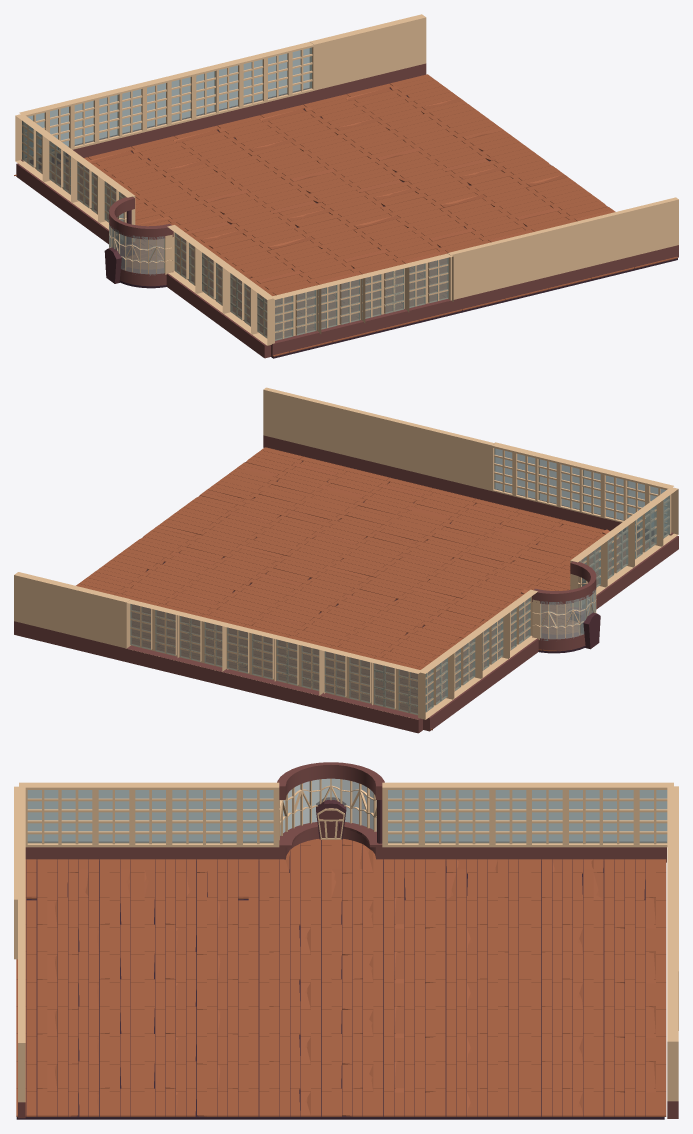
Rendered from estufa-interna.fbx.
The picture shows the model from 3 angles, top to bottom: view 1: azimuth 30°, elevation 25°; view 2: azimuth 150°, elevation 25°; view 3: azimuth 270°, elevation 25°; orthographic projection. The views are drawn at different scales.
Parts seen in each view (by area): view 1: Plane.099; view 2: Plane.099; view 3: Plane.099, Cube.048.
Boxes of the visible parts, x1,y1,x2,y2 form: Plane.099: (14, 14, 678, 358); Plane.099: (14, 387, 678, 733); Plane.099: (14, 762, 678, 1119); Cube.048: (317, 808, 344, 839).
Bounding box in the file's own units: 50.6 × 6.51 × 50.06.
